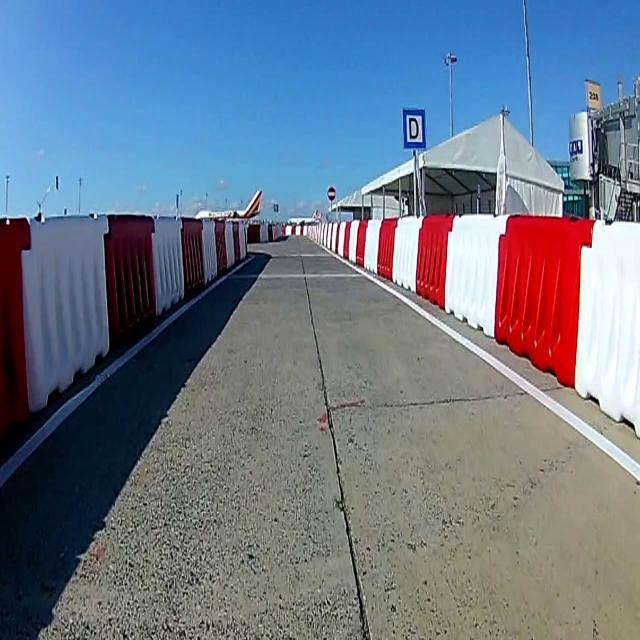durak: (402, 108, 426, 151)
girisyok: (327, 182, 336, 203)
